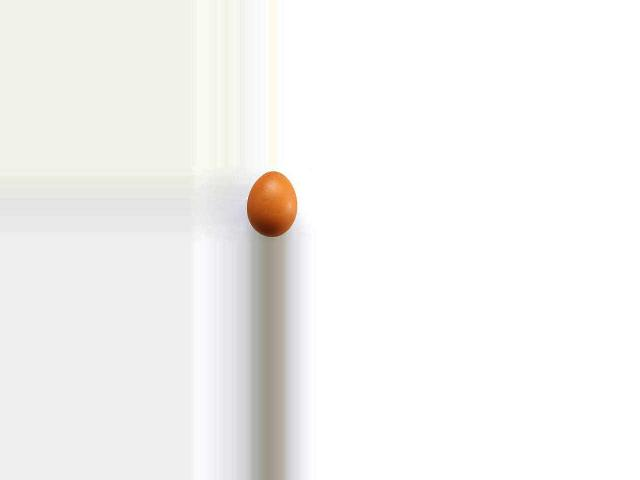egg: (246, 171, 296, 237)
